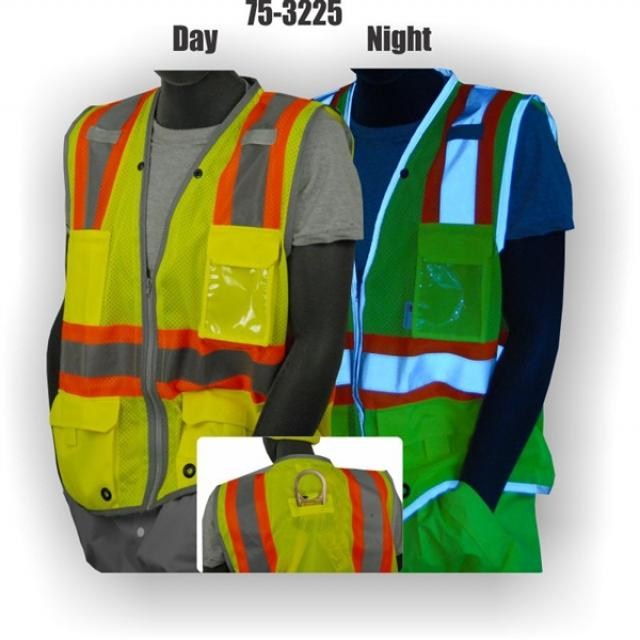Reflective-Jacket: (298, 50, 572, 590), (41, 86, 336, 515), (213, 455, 401, 574)
